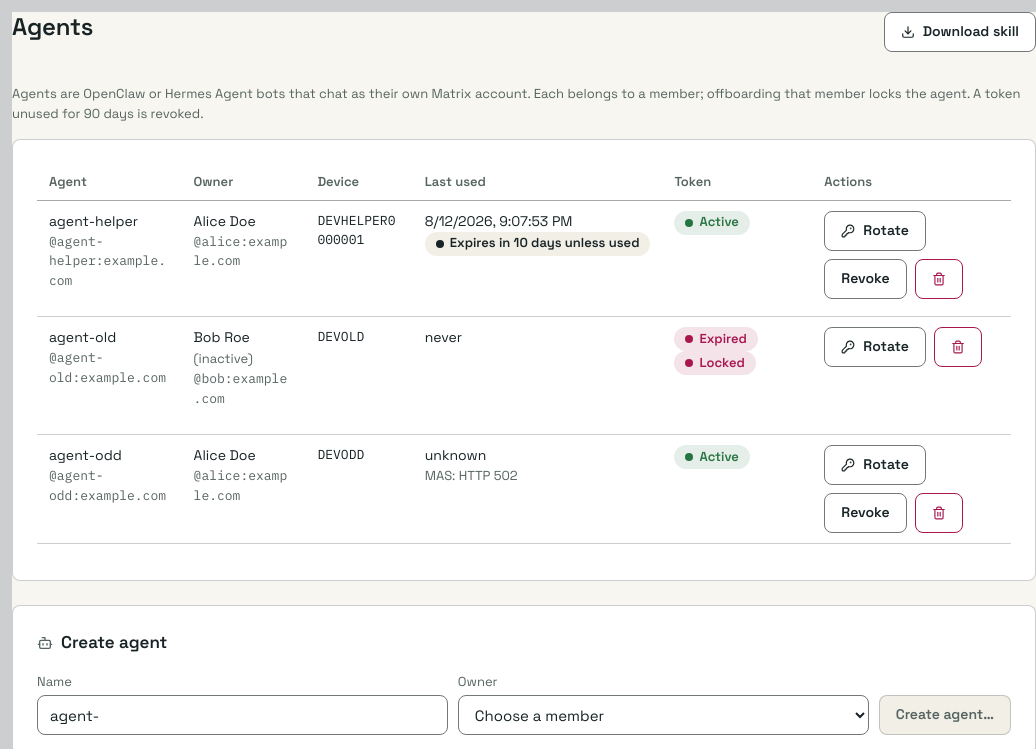
Test case: Agents › revokes in one click and reloads
Click the button with aria-label "Revoke token of agent-helper". click: (865, 278)
box: [824,258,907,298]
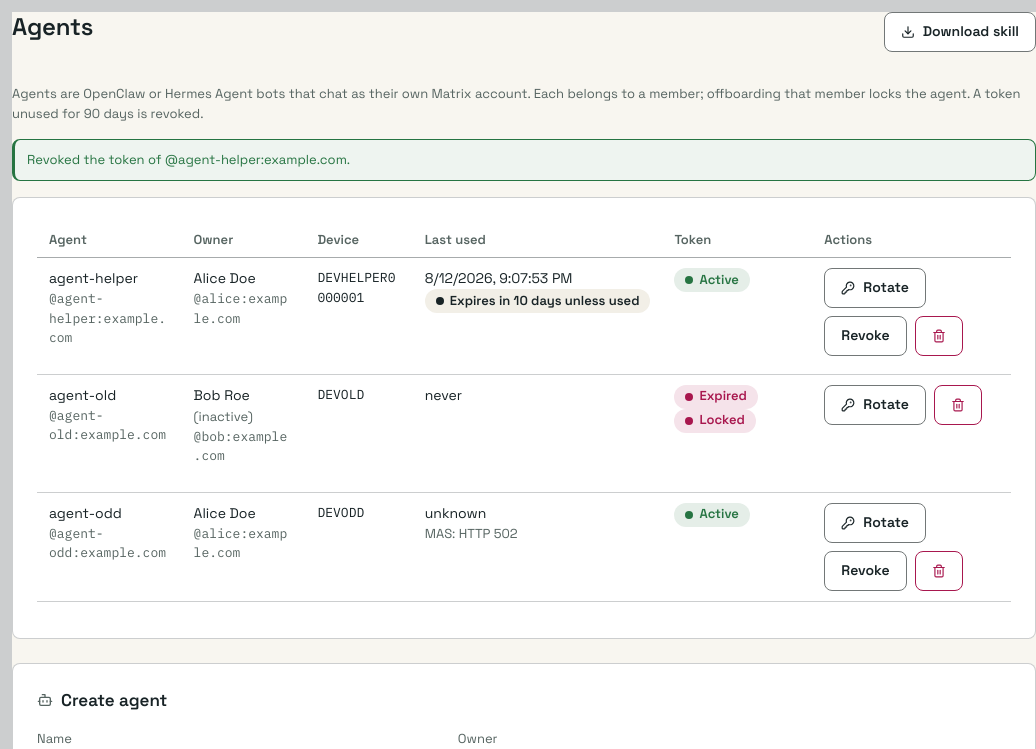
Expected: the text "Revoked the token of @agent-helper:example.com." is shown, [27,150,350,170]
